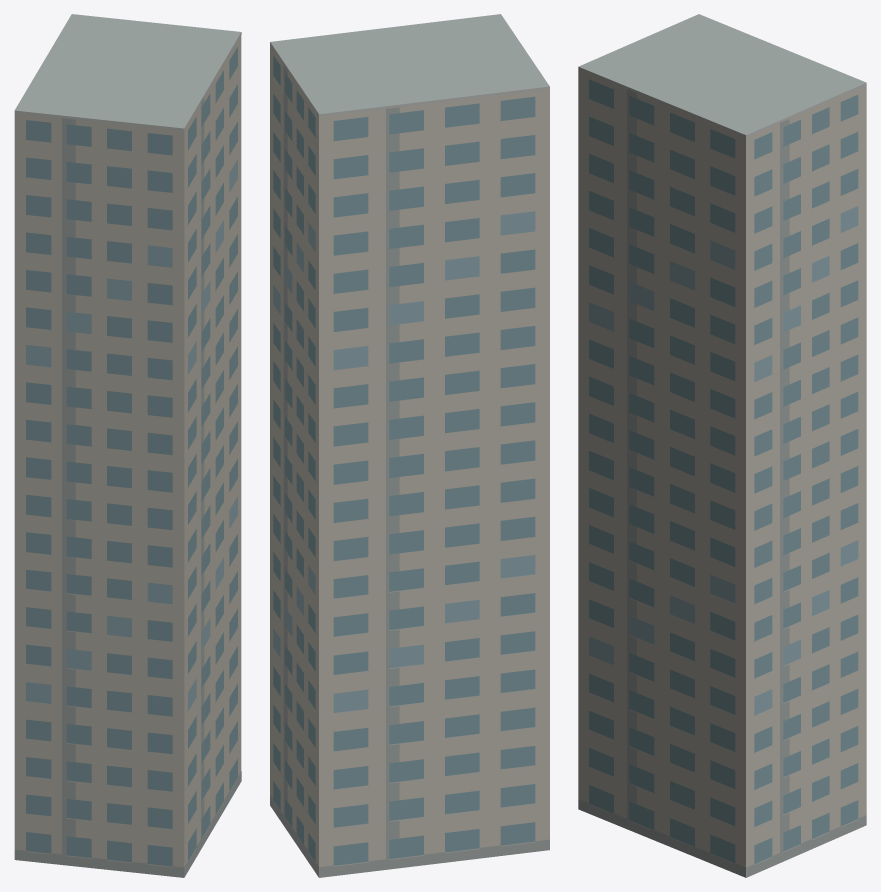
File: residential-d043d248-be90-42ed-9f1d-eb88173ec16a.glb
3 renders of one model, left to right at view 1: azimuth 30°, elevation 25°; view 2: azimuth 150°, elevation 25°; view 3: azimuth 270°, elevation 25°, orthographic. The views are drawn at different scales.
Visible parts, largest first — view 1: residential-d043d248-be90-42ed-9f1d-eb88173ec16a.tmp; view 2: residential-d043d248-be90-42ed-9f1d-eb88173ec16a.tmp; view 3: residential-d043d248-be90-42ed-9f1d-eb88173ec16a.tmp.
Part boxes in pixels (x1=…): residential-d043d248-be90-42ed-9f1d-eb88173ec16a.tmp: x1=14, y1=14, x2=241, y2=877; residential-d043d248-be90-42ed-9f1d-eb88173ec16a.tmp: x1=270, y1=14, x2=549, y2=877; residential-d043d248-be90-42ed-9f1d-eb88173ec16a.tmp: x1=578, y1=14, x2=866, y2=877.
Size of the model in its own units: 24.87 by 71 by 24.99.
